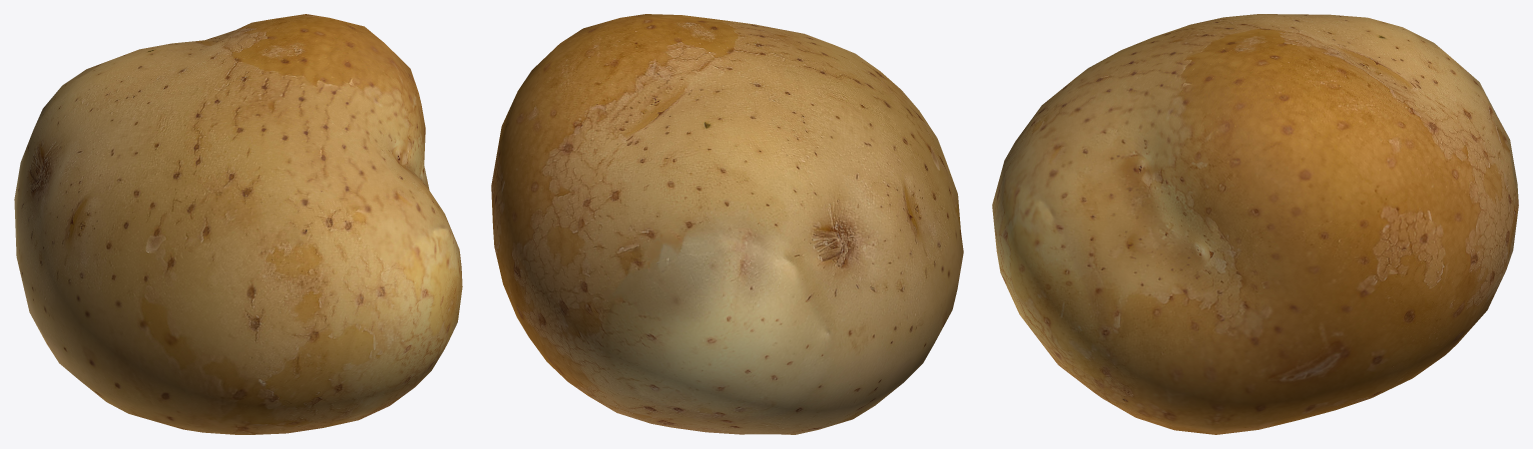
The model's file is potato.glb.
3 renders of one model, left to right at view 1: azimuth 30°, elevation 25°; view 2: azimuth 150°, elevation 25°; view 3: azimuth 270°, elevation 25°, orthographic. The views are drawn at different scales.
Parts seen in each view (by area): view 1: Potato; view 2: Potato; view 3: Potato.
Boxes of the visible parts, bbox=[...] form: Potato: bbox=[14, 14, 462, 434]; Potato: bbox=[491, 14, 963, 434]; Potato: bbox=[992, 14, 1518, 434].
Bounding box in the file's own units: 7.96 × 6.93 × 9.07.
Materials: 1 (1 with a texture image).
